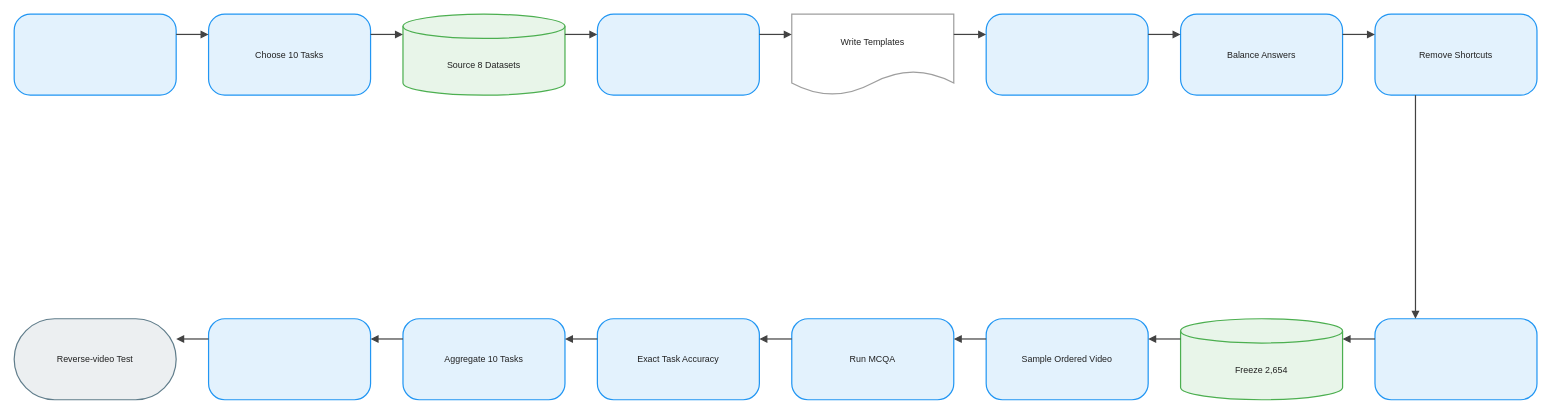
Image size: 1552x415. Some labels were removed from this diagram. Each missing label, with the box of its shape:
Adapt Temporal Targets: (596, 13, 760, 95)
Build Hard Candidates: (985, 13, 1148, 95)
Chance-level Checks: (1374, 318, 1537, 400)
Set 3 Anti-bias Rules: (13, 13, 176, 95)
Text / Frame Controls: (208, 318, 371, 400)
